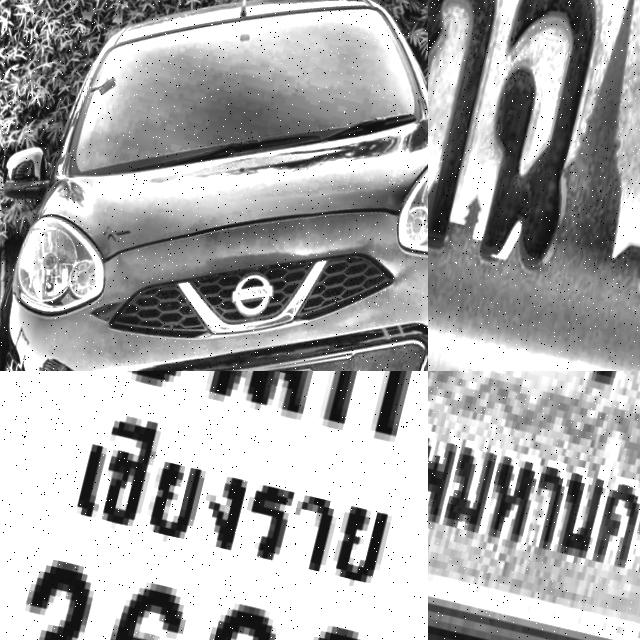license-plate: (0, 371, 428, 640), (428, 0, 640, 371), (428, 371, 640, 640), (175, 337, 331, 371)
